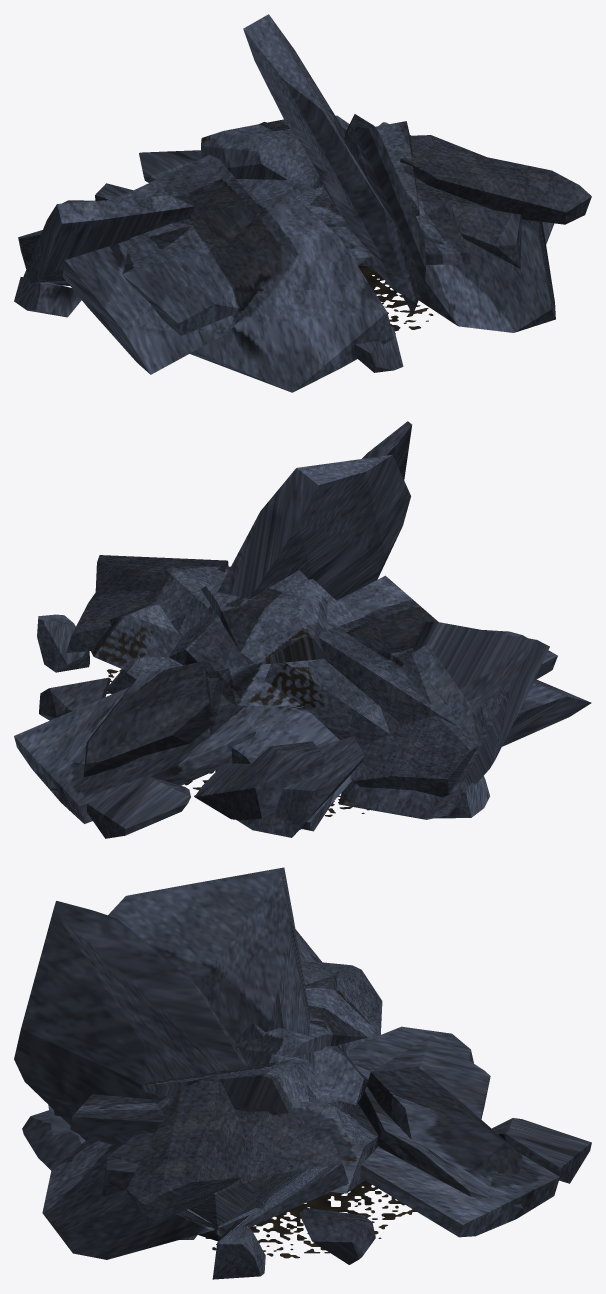
The model's file is slate_rocks.glb.
The picture shows the model from 3 angles, top to bottom: view 1: azimuth 30°, elevation 25°; view 2: azimuth 150°, elevation 25°; view 3: azimuth 270°, elevation 25°; orthographic projection. The views are drawn at different scales.
Visible parts, largest first — view 1: slate_rocks; view 2: slate_rocks; view 3: slate_rocks.
Boxes of the visible parts, bbox=[...] form: slate_rocks: bbox=[14, 14, 591, 392]; slate_rocks: bbox=[14, 421, 591, 838]; slate_rocks: bbox=[14, 867, 591, 1279].
Size of the model in its own units: 1.85 by 0.9764 by 1.77.
Materials: 2 (2 with a texture image).
